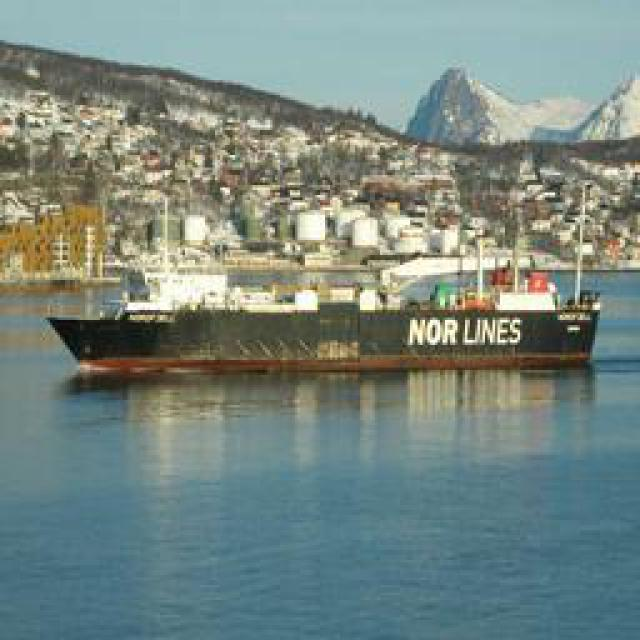Ship: (48, 278, 593, 373)
